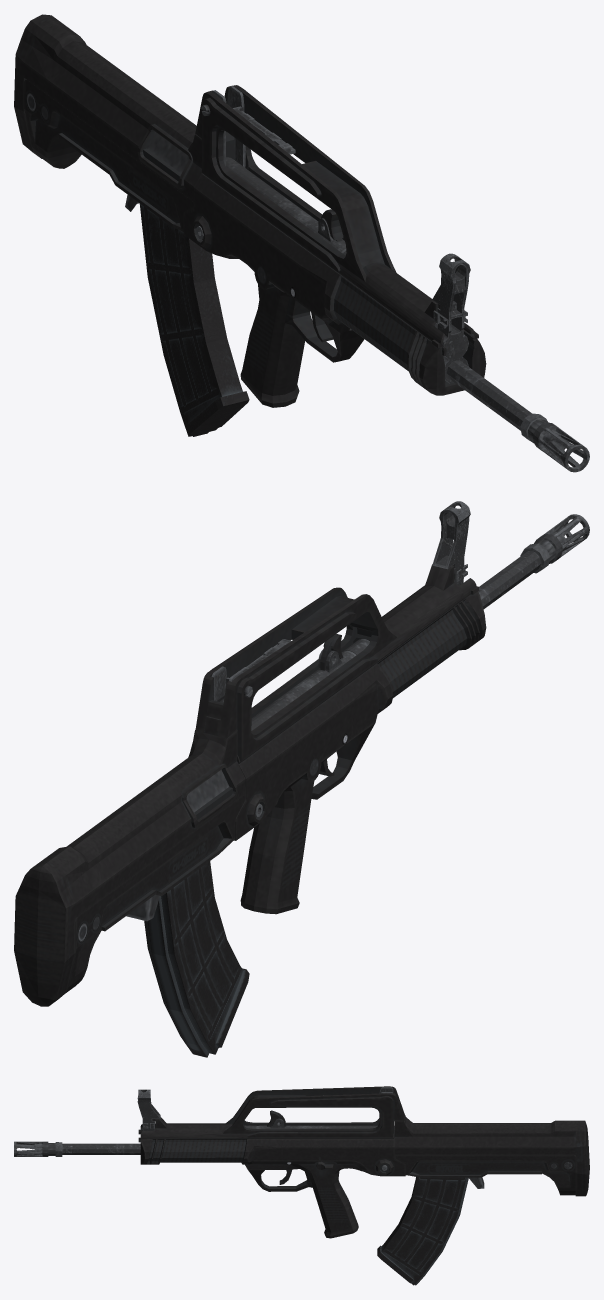
Rendered from 95式步枪.FBX.
The picture shows the model from 3 angles, top to bottom: view 1: azimuth 30°, elevation 25°; view 2: azimuth 150°, elevation 25°; view 3: azimuth 270°, elevation 25°; orthographic projection. The views are drawn at different scales.
Parts seen in each view (by area): view 1: 95式步枪; view 2: 95式步枪; view 3: 95式步枪.
Part boxes in pixels (x1,y1,x2,y2): 95式步枪: (14,14,589,472); 95式步枪: (14,501,589,1057); 95式步枪: (14,1086,589,1285).
Bounding box in the file's own units: 0.0503 × 0.2748 × 0.7404.
